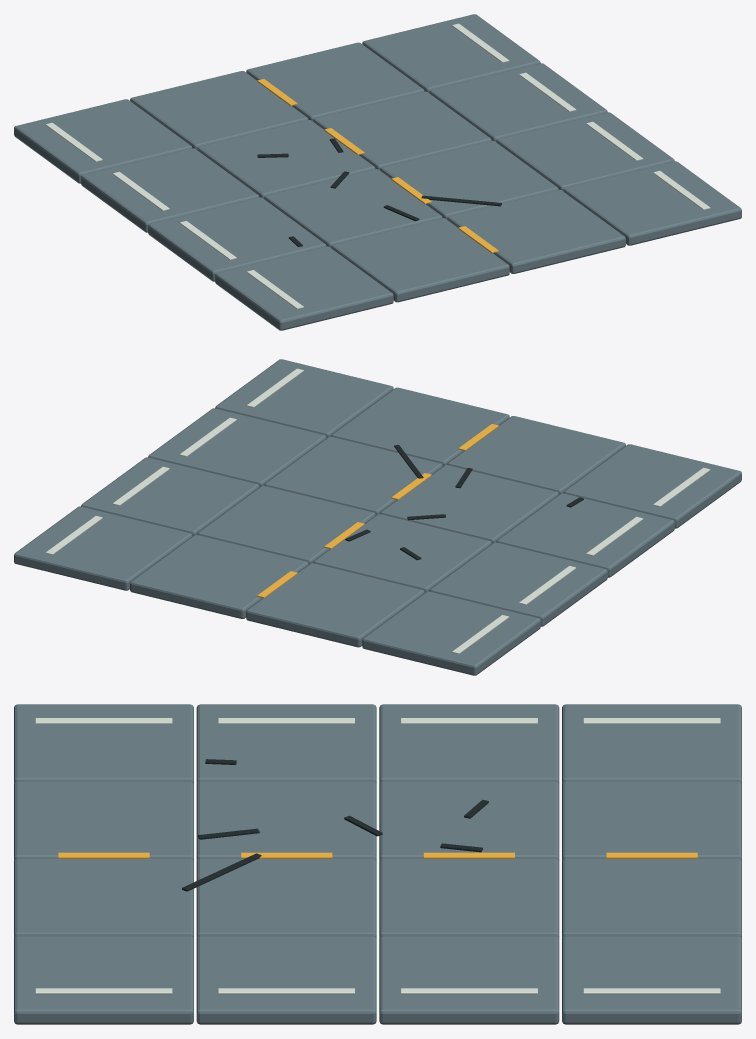
Rendered from road_straight_d1.glb.
3 views of the same model, one above another, from view 1: azimuth 30°, elevation 25°; view 2: azimuth 150°, elevation 25°; view 3: azimuth 270°, elevation 25° (orthographic). The views are drawn at different scales.
Visible parts, largest first — view 1: Road panel.016, Road panel.020, Road panel.024, Road panel.028, Road panel.018, Road panel.019, Road panel.017, Road panel.023, Road panel.021, Road panel.022, Road panel.027, Road panel.026 (+4 smaller); view 2: Road panel.019, Road panel.023, Road panel.027, Road panel.031, Road panel.018, Road panel.016, Road panel.017, Road panel.020, Road panel.022, Road panel.026, Road panel.021, Road panel.024 (+4 smaller); view 3: Road panel.029, Road panel.030, Road panel.028, Road panel.031, Road panel.026, Road panel.027, Road panel.024, Road panel.025, Road panel.020, Road panel.023, Road panel.018, Road panel.022 (+17 smaller).
Part boxes in pixels (x1,y1,x2,y2): Road panel.016: [215, 246, 393, 330]; Road panel.020: [331, 218, 509, 302]; Road panel.024: [447, 189, 625, 273]; Road panel.028: [563, 161, 741, 245]; Road panel.018: [81, 148, 259, 232]; Road panel.019: [14, 99, 192, 183]; Road panel.017: [148, 197, 326, 281]; Road panel.023: [130, 71, 308, 149]; Road panel.021: [264, 169, 442, 247]; Road panel.022: [197, 120, 375, 198]; Road panel.027: [246, 42, 424, 121]; Road panel.026: [313, 91, 491, 170]; Road panel.019: [362, 591, 540, 675]; Road panel.023: [246, 563, 424, 647]; Road panel.027: [130, 534, 308, 618]; Road panel.031: [14, 506, 192, 590]; Road panel.018: [429, 542, 607, 626]; Road panel.016: [563, 444, 741, 528]; Road panel.017: [496, 493, 674, 577]; Road panel.020: [447, 416, 625, 494]; Road panel.022: [313, 514, 491, 592]; Road panel.026: [197, 485, 375, 564]; Road panel.021: [380, 465, 558, 543]; Road panel.024: [331, 387, 509, 466]; Road panel.029: [196, 936, 376, 1024]; Road panel.030: [379, 936, 559, 1024]; Road panel.028: [14, 936, 193, 1024]; Road panel.031: [562, 936, 741, 1024]; Road panel.026: [379, 859, 559, 938]; Road panel.027: [562, 859, 741, 938]; Road panel.024: [14, 859, 193, 938]; Road panel.025: [196, 859, 376, 938]; Road panel.020: [14, 781, 193, 861]; Road panel.023: [562, 781, 741, 861]; Road panel.018: [379, 704, 559, 784]; Road panel.022: [379, 781, 559, 861].
Size of the model in its own units: 7.97 by 0.2175 by 7.97.
